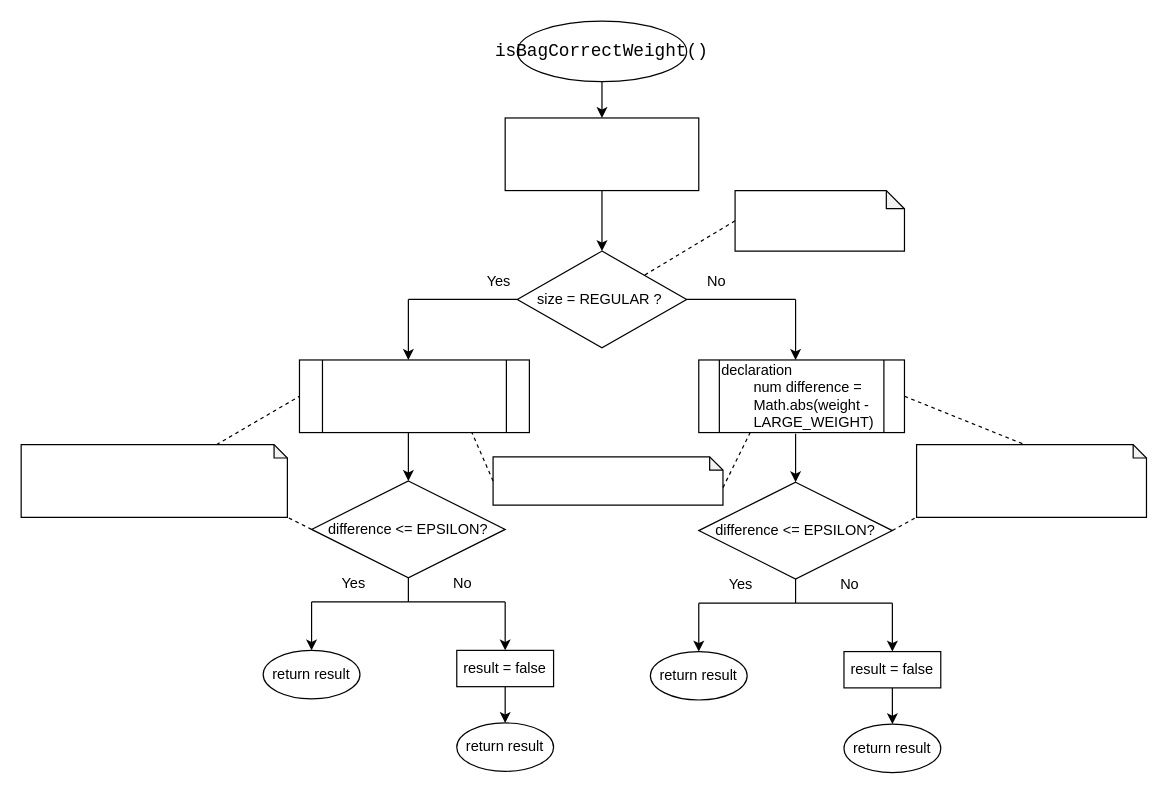
This 1168x794 diagram has some shape labels left out. Each missing label, with the centre of its shape:
declaration boolean result = true: (601,154)
declaration num difference = Math.abs(weight - REGULAR_WEIGHT): (413,396)
LARGE_WEIGHT and EPSILON are defined at the beginning in same class: (1030,480)
Math.* is Java API wieght is from class Assignment02: (607,480)
REGULAR_WEIGHT and EPSILON are defined at the beginning in same class: (153,480)
size is from class Assignment02: (819,220)
